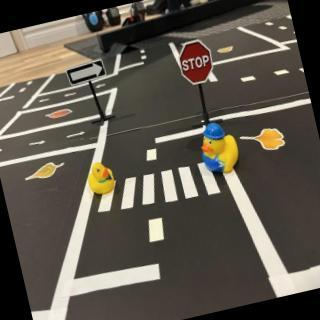duck_regular: (86, 161, 118, 197)
duck_specialty: (197, 119, 245, 180)
road_crosswalk: (86, 155, 225, 225)
road_oneway: (28, 137, 50, 149), (66, 130, 88, 141), (95, 80, 112, 92), (37, 96, 55, 106), (62, 91, 78, 100), (1, 146, 6, 157)
sign_oneway_right: (66, 60, 108, 87)
sign_stop: (178, 40, 217, 87)
